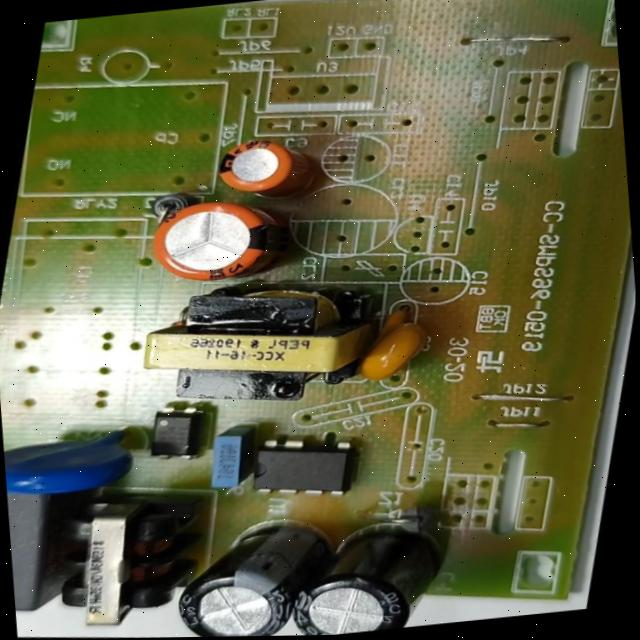Cap1: (121, 181, 312, 297)
Cap2: (199, 121, 332, 212)
Cap3: (160, 498, 330, 637)
Cap4: (270, 502, 474, 636)
MOSFET: (200, 406, 401, 524)
Mov: (0, 401, 172, 528)
Transformer: (68, 246, 434, 438), (27, 471, 233, 639)
